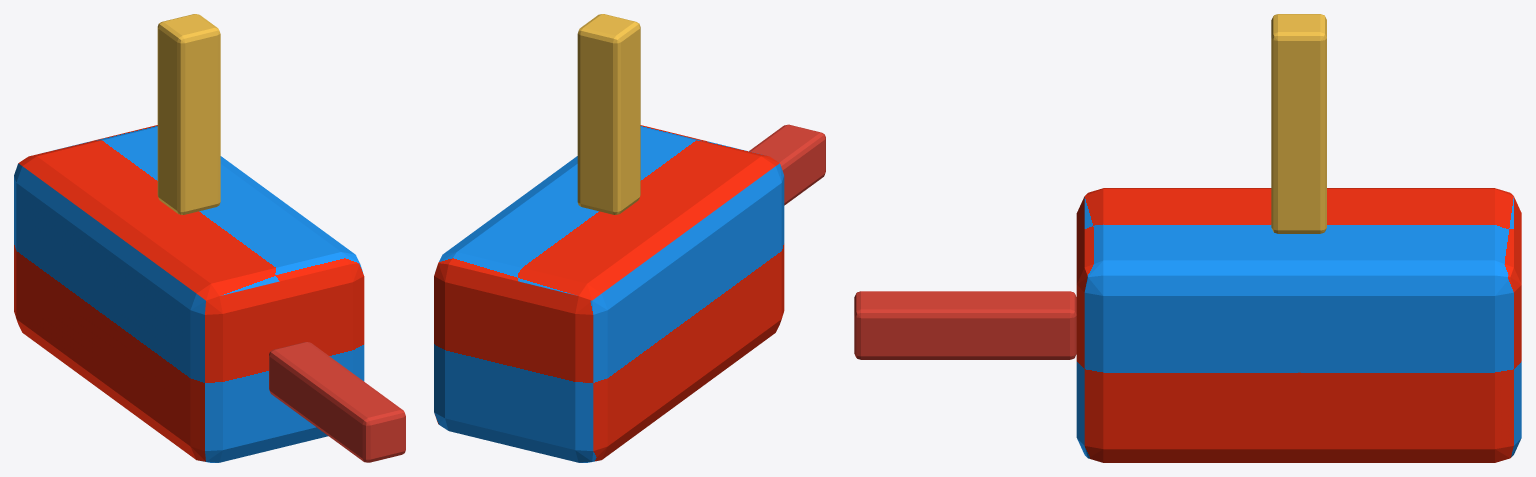
The model's file is teste_eixos.glb.
The picture shows the model from 3 angles, left to right: view 1: azimuth 30°, elevation 25°; view 2: azimuth 150°, elevation 25°; view 3: azimuth 270°, elevation 25°; orthographic projection. The views are drawn at different scales.
Parts seen in each view (by area): view 1: Corpo 2x2x4; view 2: Corpo 2x2x4; view 3: Corpo 2x2x4.
Part boxes in pixels (box(x1,y1,x2,y2)): Corpo 2x2x4: box(14, 14, 405, 462); Corpo 2x2x4: box(434, 14, 825, 462); Corpo 2x2x4: box(854, 14, 1521, 462).
Bounding box in the file's own units: 2 × 4 × 6.
3 materials, 1 textured.
